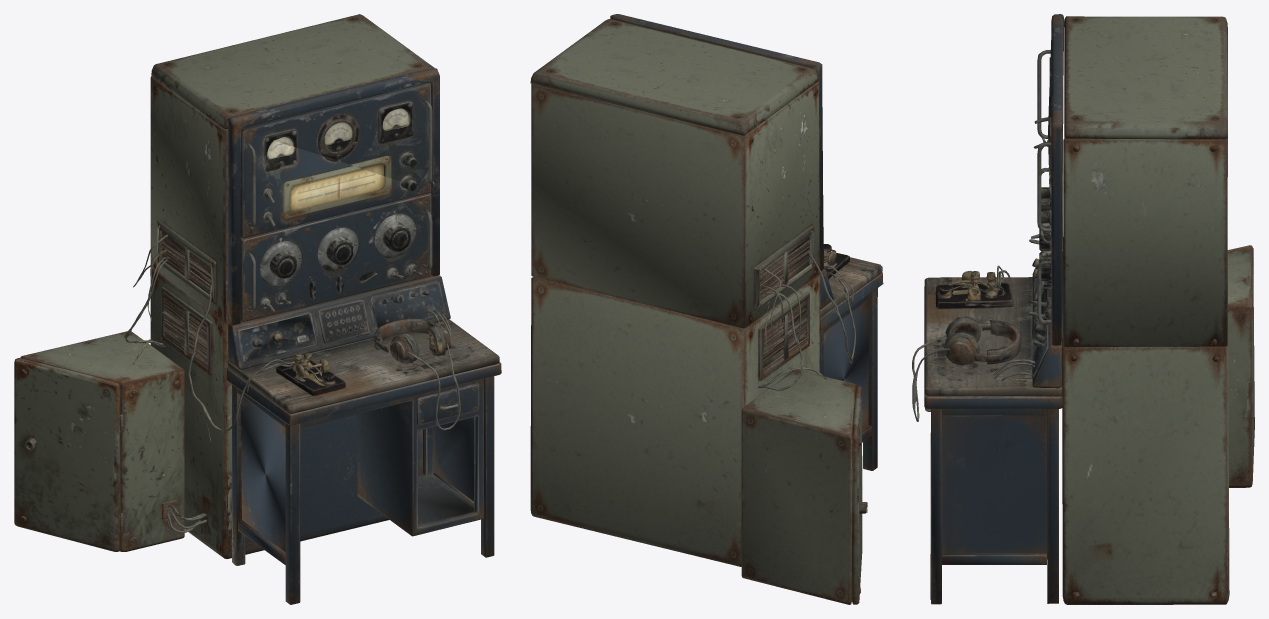
Rendered from silo81_radioset.glb.
The picture shows the model from 3 angles, left to right: view 1: azimuth 30°, elevation 25°; view 2: azimuth 150°, elevation 25°; view 3: azimuth 270°, elevation 25°; orthographic projection. The views are drawn at different scales.
Size of the model in its own units: 0.7603 by 0.9521 by 0.6128.
Materials: 1 (1 with a texture image).
